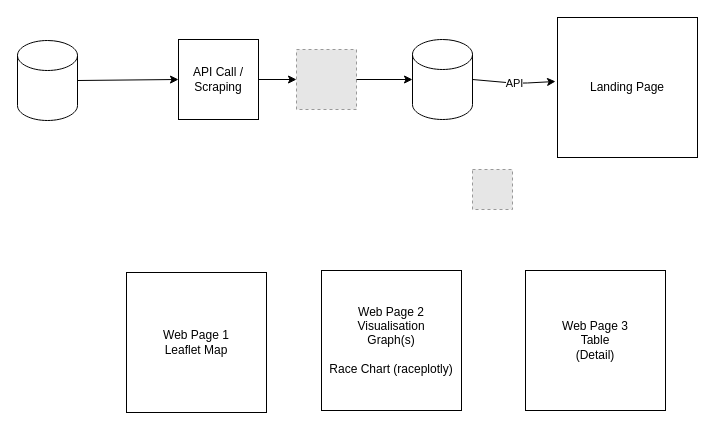
Image size: 715x430. Some labels were removed from this diagram. Grey dashed boxes stand in for pictures. Each missing label, with the centre of its shape:
"Externa Datasource" belongs at point 47,80.
"Mongo Database" belongs at point 442,79.
